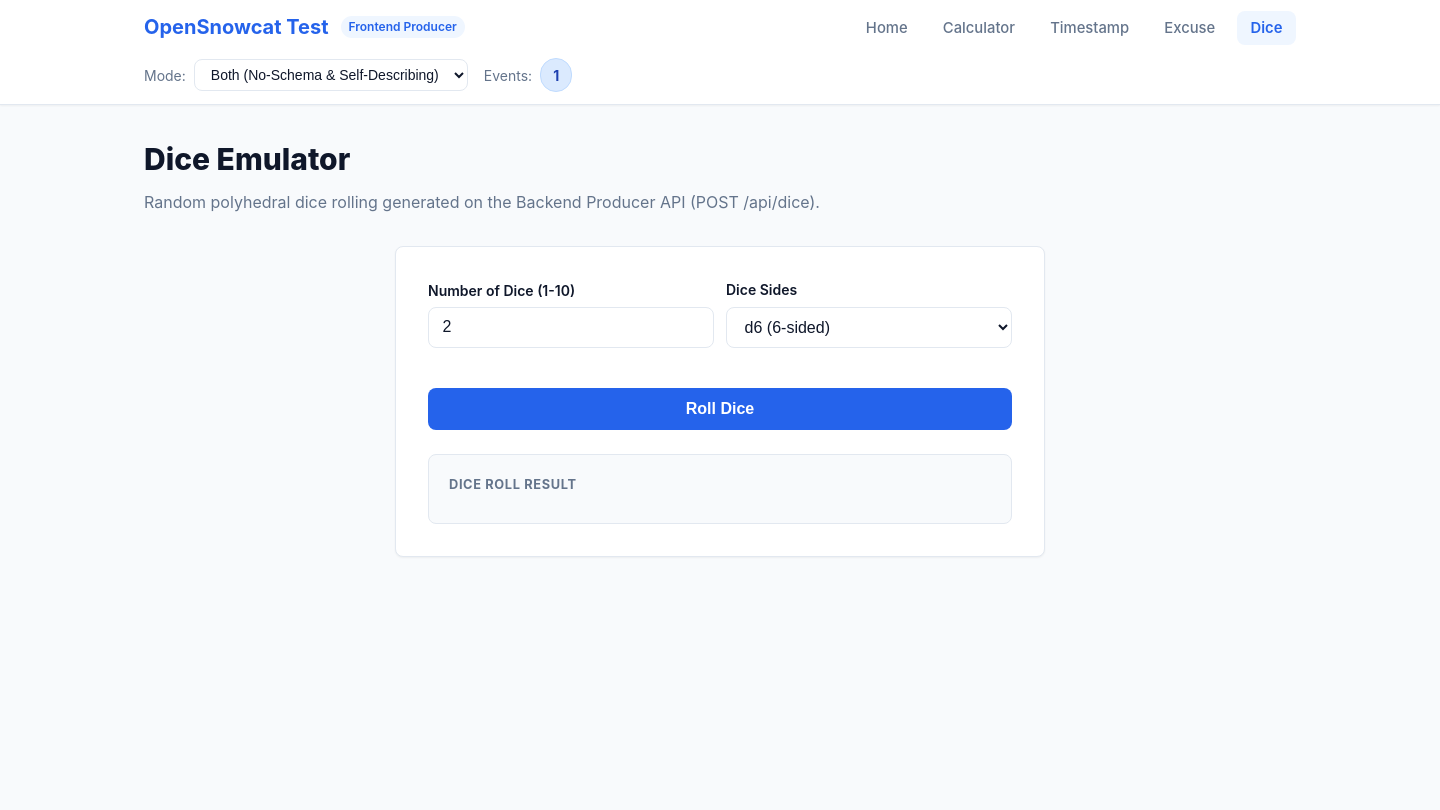
Network and API Error Resilience - End-to-End Integration › renders error alert when Backend API returns HTTP 500 on /dice
Check: the text with test id "frontend-events-counter" reads "1", box [553, 67, 559, 84]
Click the button with test id "btn-roll-dice": (720, 409) [428, 388, 1012, 430]
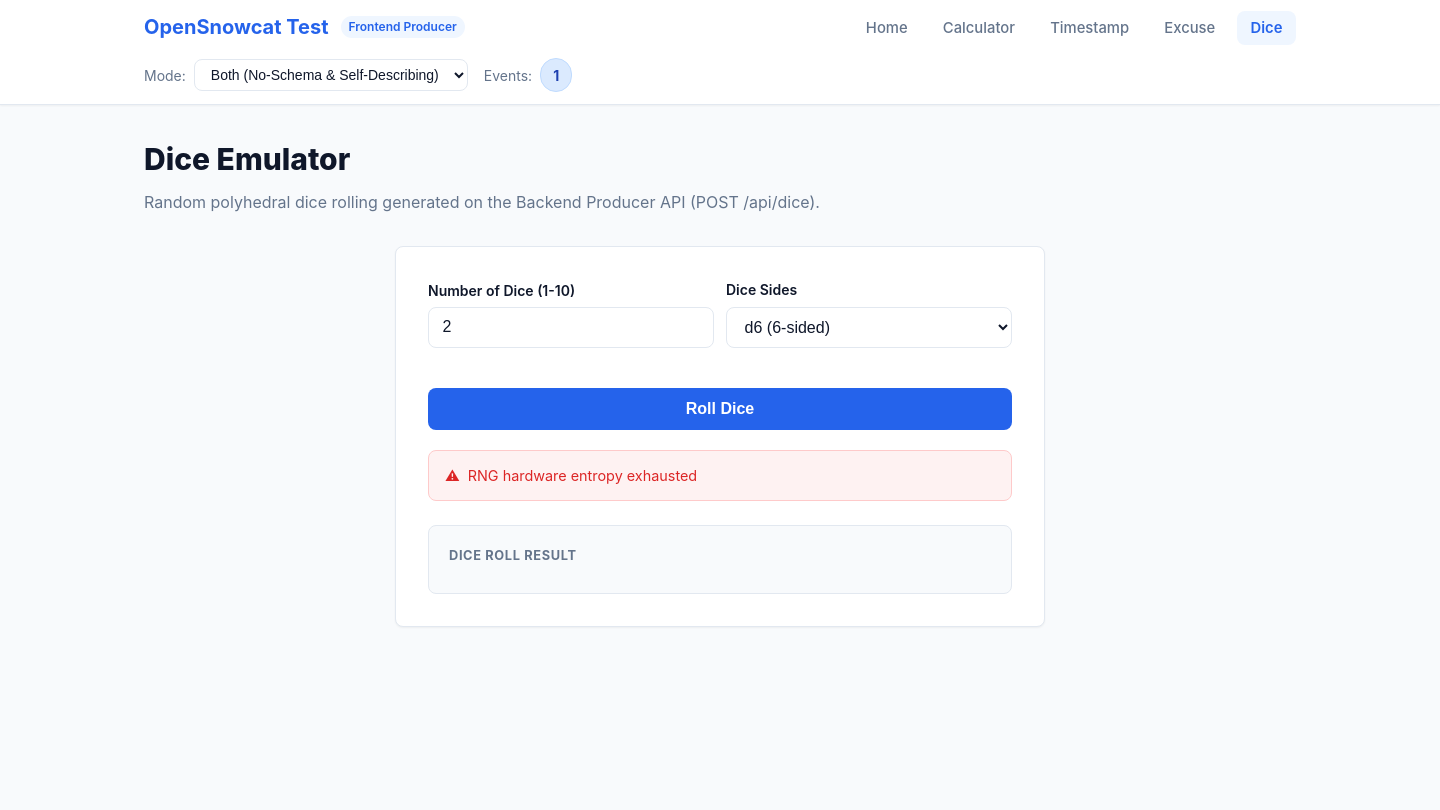
Check: the message "⚠ RNG hardware entropy exhausted" is shown, box [428, 450, 1012, 501]
Check: the message shows "RNG hardware entropy exhausted", box [468, 467, 697, 484]
